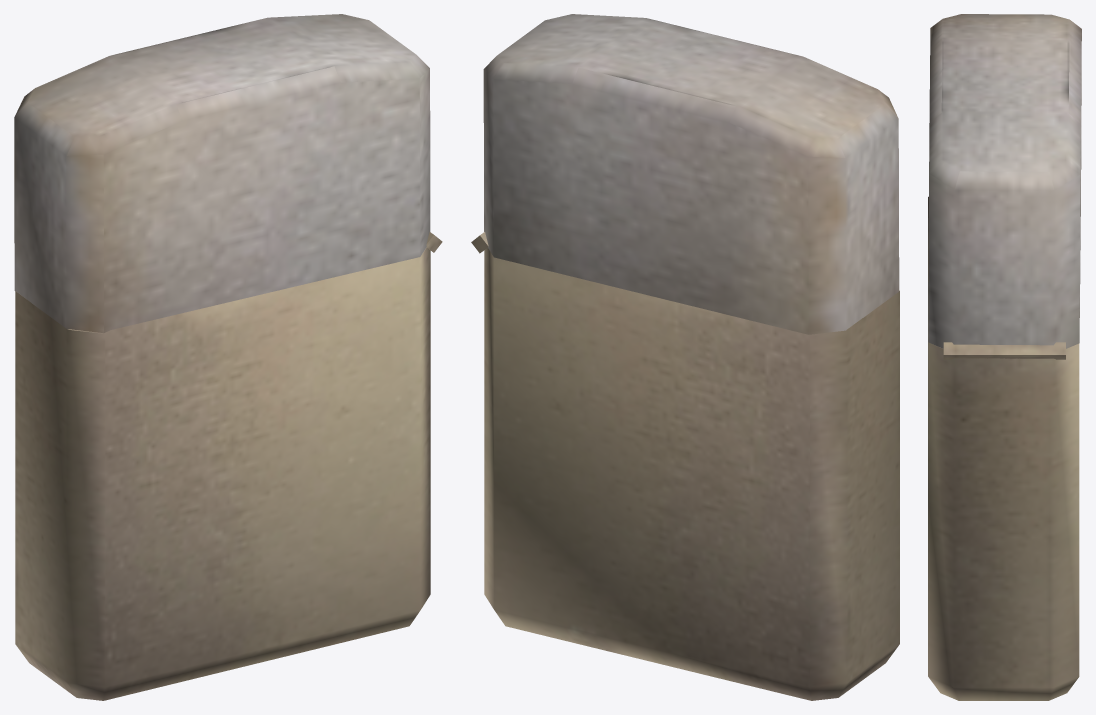
The model's file is lighter.glb.
3 renders of one model, left to right at view 1: azimuth 30°, elevation 25°; view 2: azimuth 150°, elevation 25°; view 3: azimuth 270°, elevation 25°, orthographic. The views are drawn at different scales.
Visible parts, largest first — view 1: zippo_zippo_0; view 2: zippo_zippo_0; view 3: zippo_zippo_0.
Part boxes in pixels (bbox=[...]): zippo_zippo_0: bbox=[14, 14, 442, 700]; zippo_zippo_0: bbox=[471, 14, 899, 700]; zippo_zippo_0: bbox=[928, 14, 1081, 700].
Size of the model in its own units: 0.1132 by 0.1691 by 0.0431.
1 material, 1 textured.
